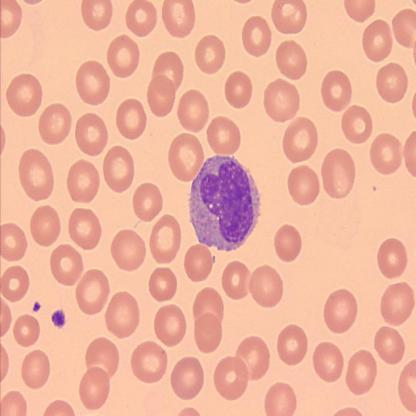Monocyte: (187, 153, 261, 253)
